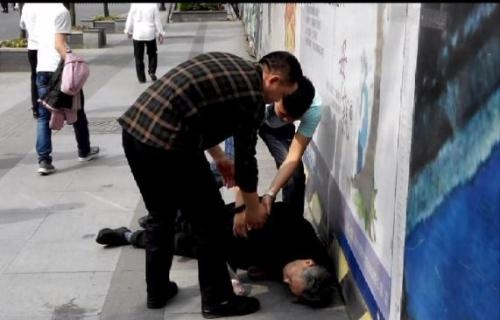falling: (76, 184, 367, 304)
